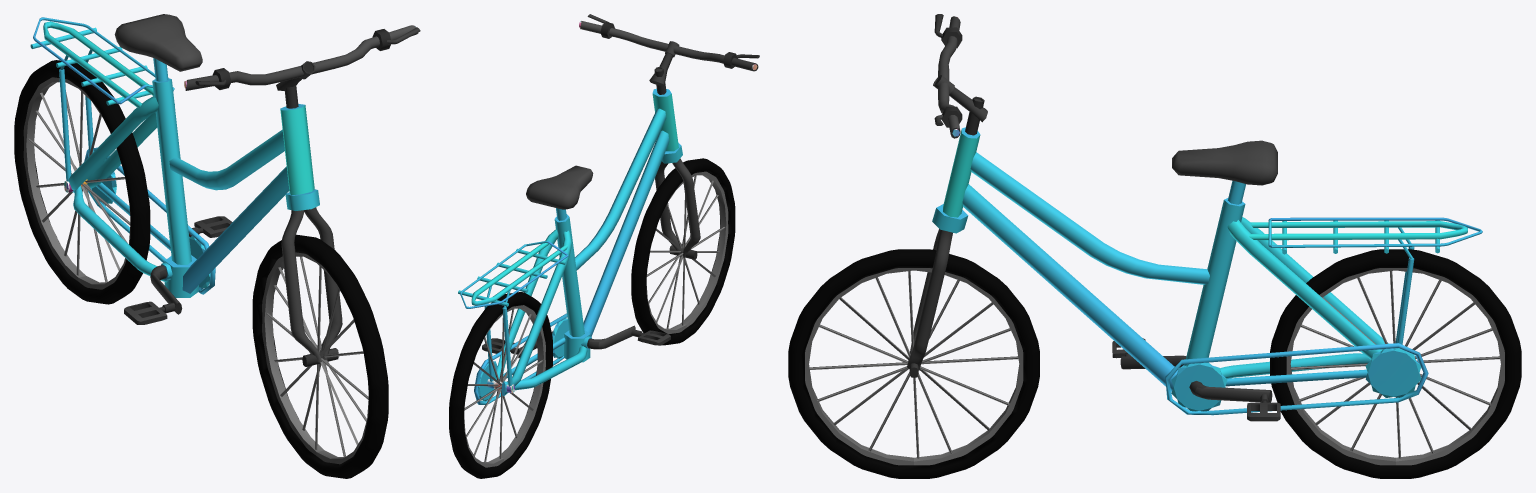
Rendered from Bike_Pedal_1.fbx.
3 renders of one model, left to right at view 1: azimuth 30°, elevation 25°; view 2: azimuth 150°, elevation 25°; view 3: azimuth 270°, elevation 25°, orthographic. The views are drawn at different scales.
Parts seen in each view (by area): view 1: Bike_Pedal_1; view 2: Bike_Pedal_1; view 3: Bike_Pedal_1.
Boxes of the visible parts, left/top/right/bottom form: Bike_Pedal_1: left=14, top=14, right=420, bottom=478; Bike_Pedal_1: left=449, top=14, right=759, bottom=478; Bike_Pedal_1: left=788, top=14, right=1521, bottom=478.
Size of the model in its own units: 58.69 by 97.95 by 159.
1 material, 1 textured.
